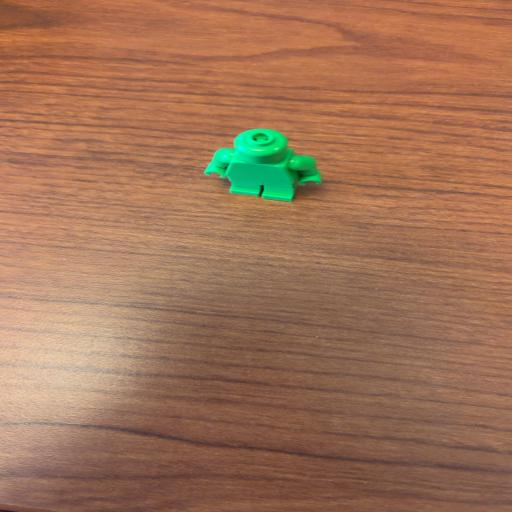UnoQ-minifig-detector: (204, 129, 321, 202)
